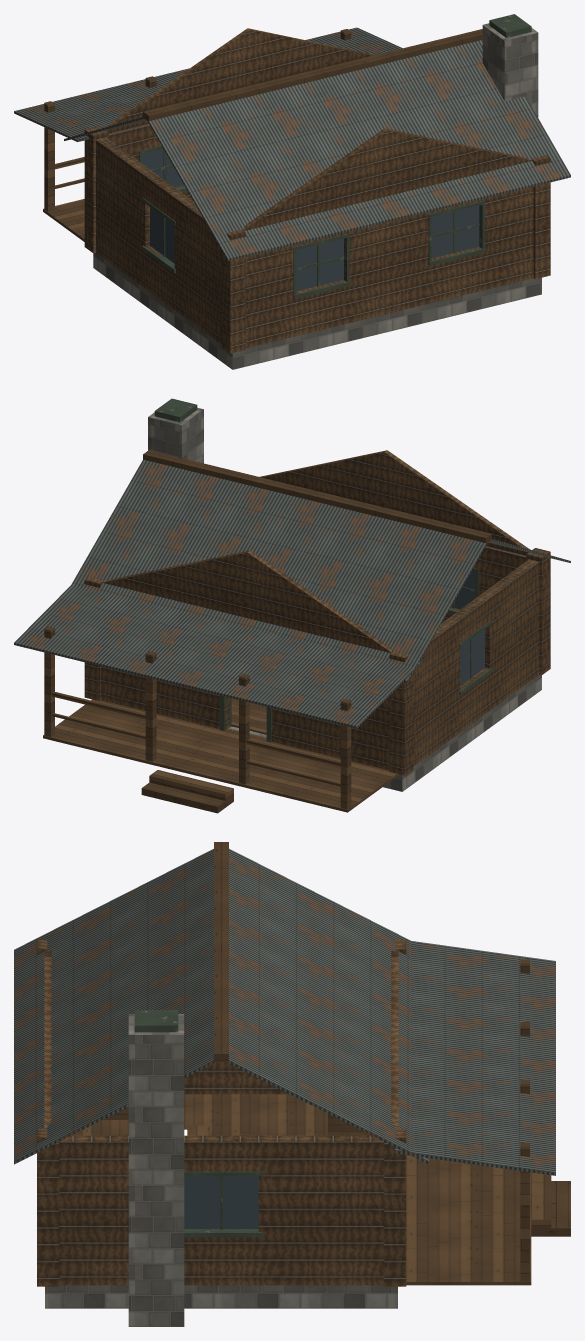
Rendered from ranger_cabin.glb.
3 views of the same model, one above another, from view 1: azimuth 30°, elevation 25°; view 2: azimuth 150°, elevation 25°; view 3: azimuth 270°, elevation 25° (orthographic). The views are drawn at different scales.
Parts seen in each view (by area): view 1: ranger_cabin; view 2: ranger_cabin; view 3: ranger_cabin.
Boxes of the visible parts, left/top/right/bottom form: ranger_cabin: left=14, top=14, right=570, bottom=369; ranger_cabin: left=14, top=398, right=570, bottom=813; ranger_cabin: left=14, top=842, right=570, bottom=1326.
Bounding box in the file's own units: 8.4 × 5.32 × 8.99.
Materials: 7 (5 with a texture image).
